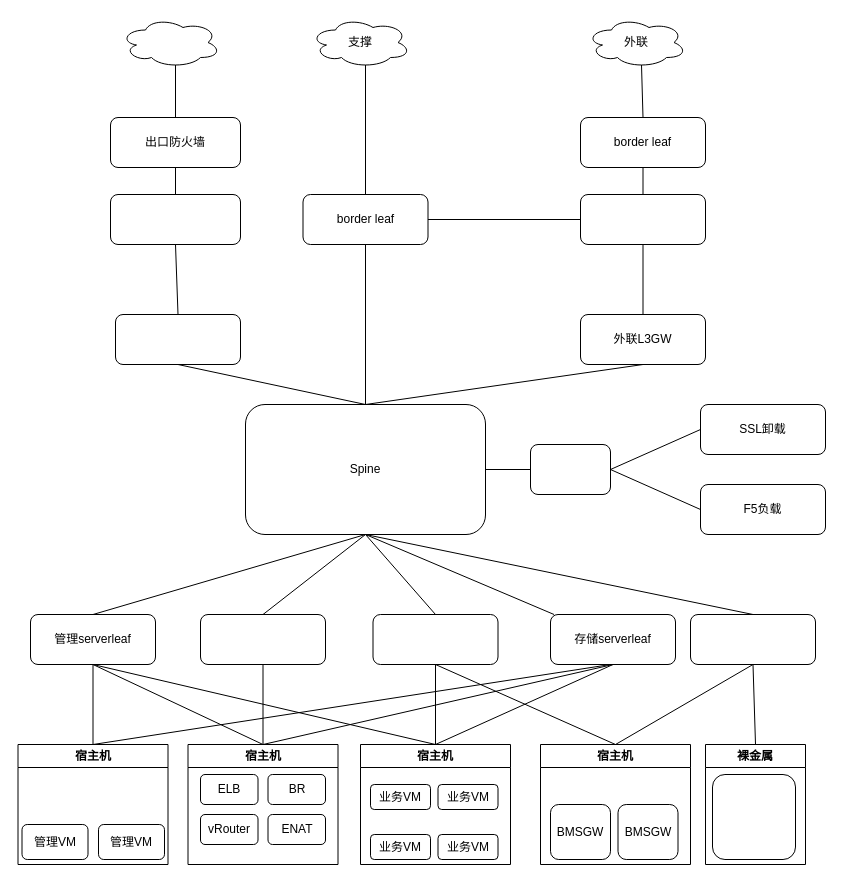
Image size: 843x882. Some labels were removed from this diagram. The centre of each missing label's shape, as x and y in pixels:
"BMS" belongs at [754,817].
"internet" belongs at [170,42].
"L2BR" belongs at [570,469].
"LLC" belongs at [175,219].
"互联网L3GW" belongs at [177,339].
"网络serverleaf" belongs at [263,639].
"裸金属serverleaf" belongs at [753,639].
"计算serverleaf" belongs at [435,639].
"防火墙" belongs at [643,219].
